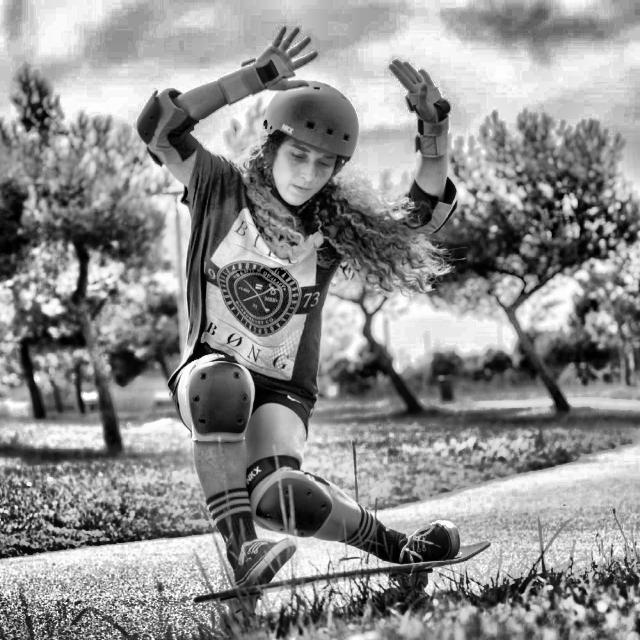Helmet: (257, 57, 365, 217)
